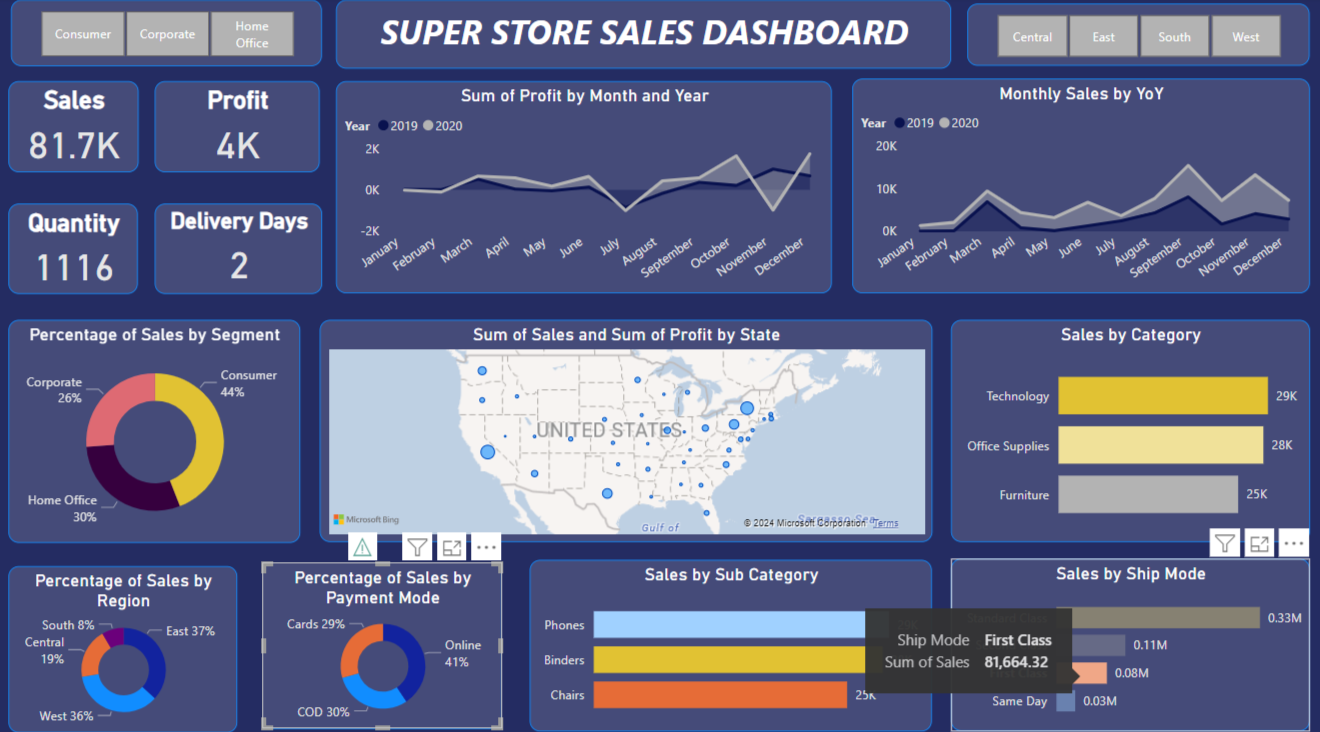

Layout of this report page (visuals, bound fields, positions):
{"tool":"powerbi","page":{"name":"Page 1","canvas":[1280,720],"ordinal":0},"visuals":[{"type":"clusteredBarChart","title":"Sales by Category","fields":{"Category":["SuperStore_Sales_Dataset.Category"],"Y":["Sum(SuperStore_Sales_Dataset.Sales)"]},"box":[920.2,311.2,346.1,214.7],"z":0},{"type":"clusteredBarChart","title":"Sales by Sub Category","fields":{"Category":["SuperStore_Sales_Dataset.Sub-Category"],"Y":["Sum(SuperStore_Sales_Dataset.Sales)"]},"box":[513.8,542.7,388.3,165.2],"z":1000},{"type":"clusteredBarChart","title":"Sales by Ship Mode","fields":{"Category":["SuperStore_Sales_Dataset.Ship Mode"],"Y":["Sum(SuperStore_Sales_Dataset.Sales)"]},"box":[920,541.2,346.2,166.2],"z":2000},{"type":"stackedAreaChart","title":"Monthly Sales by YoY","fields":{"Y":["Sum(SuperStore_Sales_Dataset.Sales)"],"Category":["SuperStore_Sales_Dataset.Order Date.Variation.Date Hierarchy.Month","SuperStore_Sales_Dataset.Order Date.Variation.Date Hierarchy.Day"],"Series":["SuperStore_Sales_Dataset.Order Date.Variation.Date Hierarchy.Year"]},"box":[825,78.8,441.2,207.5],"z":3000},{"type":"stackedAreaChart","fields":{"Category":["SuperStore_Sales_Dataset.Order Date.Variation.Date Hierarchy.Month","SuperStore_Sales_Dataset.Order Date.Variation.Date Hierarchy.Day"],"Series":["SuperStore_Sales_Dataset.Order Date.Variation.Date Hierarchy.Year"],"Y":["Sum(SuperStore_Sales_Dataset.Profit)"]},"box":[326.2,81.2,478.8,205],"z":4000},{"type":"map","fields":{"Category":["SuperStore_Sales_Dataset.State"],"Size":["Sum(SuperStore_Sales_Dataset.Sales)"]},"box":[311.2,311.2,591,214.7],"z":5000},{"type":"donutChart","title":"Percentage of Sales by Segment","fields":{"Category":["SuperStore_Sales_Dataset.Segment"],"Y":["Sum(SuperStore_Sales_Dataset.Sales)"]},"box":[11.2,311.2,281.2,215],"z":6000},{"type":"donutChart","title":"Percentage of Sales by Payment Mode","fields":{"Category":["SuperStore_Sales_Dataset.Payment Mode"],"Y":["Sum(SuperStore_Sales_Dataset.Sales)"]},"box":[255.7,545.1,231.6,160.4],"z":7000},{"type":"slicer","fields":{"Values":["SuperStore_Sales_Dataset.Region"]},"box":[936.2,6.2,330,60],"z":8000},{"type":"textbox","box":[326.2,2.5,593.8,66.2],"z":9000},{"type":"card","title":"Sales","fields":{"Values":["Sum(SuperStore_Sales_Dataset.Sales)"]},"box":[11.2,81.2,125,87.5],"z":10000},{"type":"card","title":"Quantity","fields":{"Values":["Sum(SuperStore_Sales_Dataset.Quantity)"]},"box":[11.2,198.8,125,87.5],"z":11000},{"type":"card","title":"Profit","fields":{"Values":["Sum(SuperStore_Sales_Dataset.Profit)"]},"box":[161.2,81.2,152.5,87.5],"z":12000},{"type":"card","title":"Delivery Days","fields":{"Values":["Avg(SuperStore_Sales_Dataset.AvgDelievery)"]},"box":[162.5,198.8,151.2,87.5],"z":13000},{"type":"donutChart","title":"Percentage of Sales by Region","fields":{"Category":["SuperStore_Sales_Dataset.Region"],"Y":["Sum(SuperStore_Sales_Dataset.Sales)"]},"box":[10.9,548.7,220.7,160.4],"z":14000},{"type":"slicer","fields":{"Values":["SuperStore_Sales_Dataset.Segment"]},"box":[11.2,2.5,300,63.8],"z":15000}]}

Visuals, with their boxes in screenshot pixels (x1, y1, x2, y2), scaled from the page's 1280x720 canvas onto the 1320x732 screenshot:
"Sales by Category" clusteredBarChart: 949 316 1306 535
"Sales by Sub Category" clusteredBarChart: 530 552 930 720
"Sales by Ship Mode" clusteredBarChart: 949 550 1306 719
"Monthly Sales by YoY" stackedAreaChart: 851 80 1306 291
stackedAreaChart - SuperStore_Sales_Dataset.Order Date.Variation.Date Hierarchy.Month x SuperStore_Sales_Dataset.Order Date.Variation.Date Hierarchy.Day: 336 83 830 291
map - SuperStore_Sales_Dataset.State x Sum(SuperStore_Sales_Dataset.Sales): 321 316 930 535
"Percentage of Sales by Segment" donutChart: 12 316 302 535
"Percentage of Sales by Payment Mode" donutChart: 264 554 503 717
slicer - SuperStore_Sales_Dataset.Region: 965 6 1306 67
textbox: 336 3 949 70
"Sales" card: 12 83 140 172
"Quantity" card: 12 202 140 291
"Profit" card: 166 83 324 172
"Delivery Days" card: 168 202 324 291
"Percentage of Sales by Region" donutChart: 11 558 239 721
slicer - SuperStore_Sales_Dataset.Segment: 12 3 321 67
